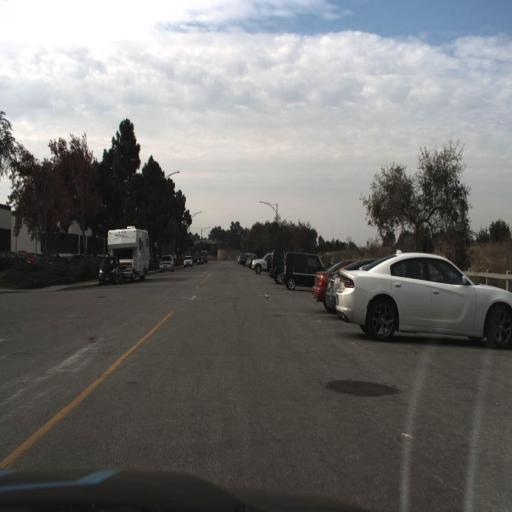car: (338, 247, 511, 346), (315, 254, 405, 312), (279, 251, 322, 294), (96, 255, 121, 288), (159, 253, 176, 273), (183, 254, 194, 268)
truck: (104, 224, 148, 281)
